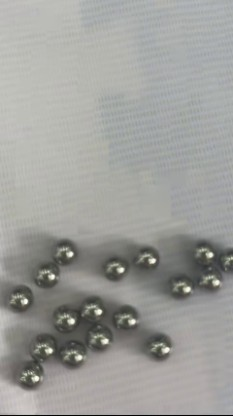ironball: (30, 258, 65, 292), (4, 283, 37, 313), (26, 331, 57, 361), (13, 361, 46, 389), (51, 237, 81, 267), (57, 339, 87, 368), (162, 272, 193, 300), (102, 253, 130, 283), (108, 302, 139, 329), (145, 333, 172, 364), (50, 303, 77, 334), (75, 295, 104, 323), (85, 322, 113, 351), (130, 242, 158, 270), (194, 264, 220, 292), (188, 241, 216, 265), (213, 243, 231, 276)
